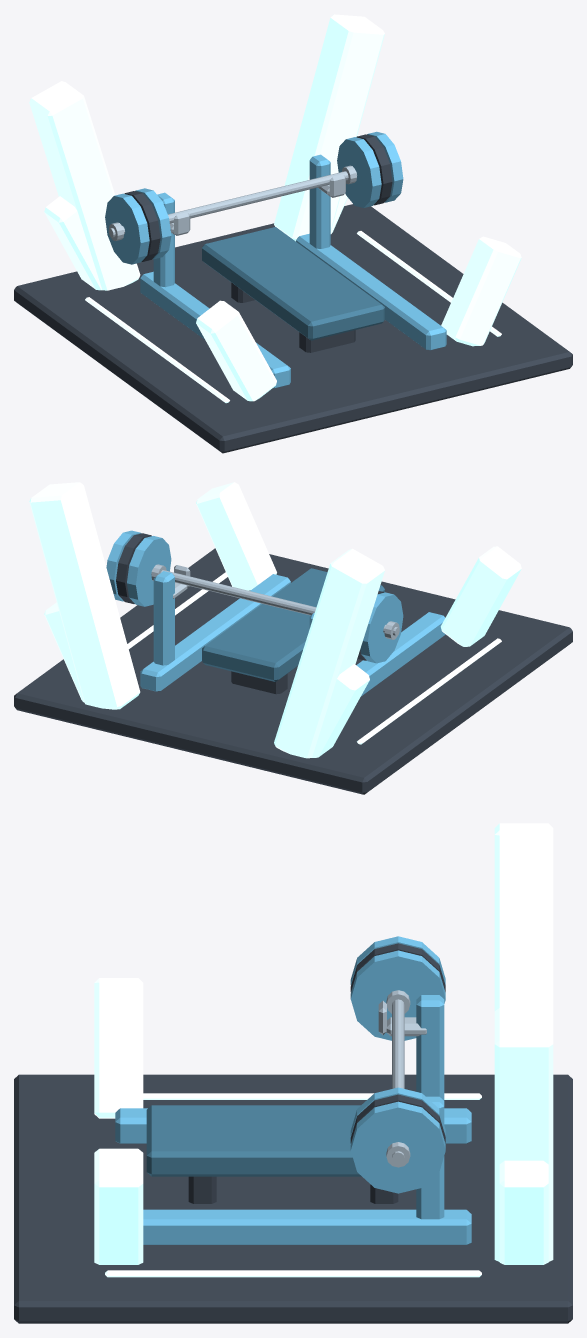
File: Frost.fbx
3 renders of one model, top to bottom at view 1: azimuth 30°, elevation 25°; view 2: azimuth 150°, elevation 25°; view 3: azimuth 270°, elevation 25°, orthographic. The views are drawn at different scales.
Visible parts, largest first — view 1: Body.002, Barbell.002; view 2: Body.002, Barbell.002; view 3: Body.002, Barbell.002.
Boxes of the visible parts, box(x1,y1,x2,y2) form: Body.002: box(14, 14, 572, 453); Barbell.002: box(105, 131, 403, 264); Body.002: box(14, 482, 572, 794); Barbell.002: box(106, 530, 403, 663); Body.002: box(14, 823, 572, 1323); Barbell.002: box(350, 936, 445, 1193).
Bounding box in the file's own units: 390 × 230 × 400.
